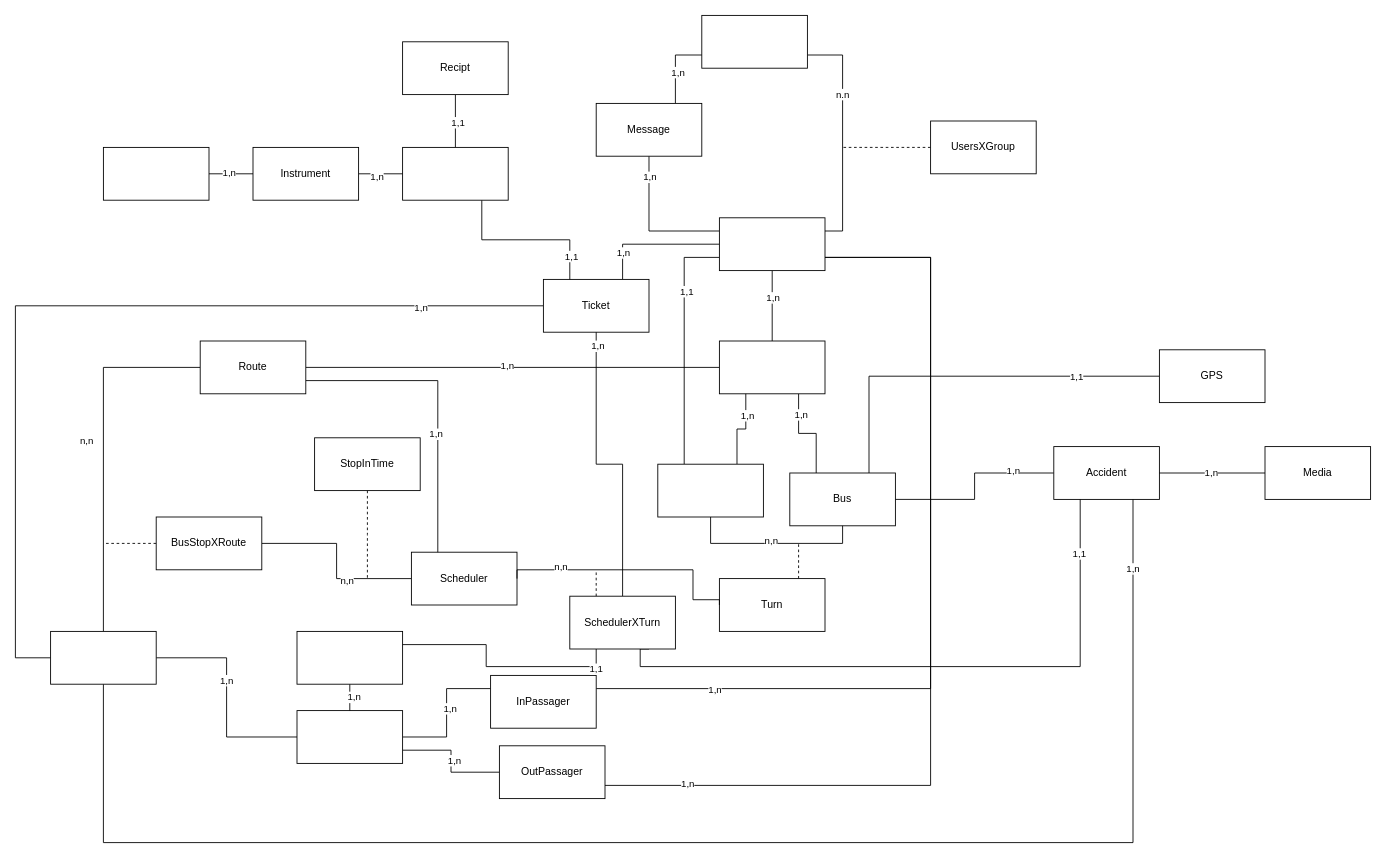
The diagram is 1386 pixels wide and 859 high, and some of its shapes have lost their labels. The shapes that lost their labels are listed below. From the top down, each one's centre as x and y in pixels, then its label:
the point at 754,41: Group
the point at 156,173: PaymentMethod
the point at 455,173: Payment
the point at 772,244: User
the point at 772,367: Company
the point at 710,490: BusDriver
the point at 103,657: BusStop
the point at 349,657: History
the point at 349,736: HistoryPoint
